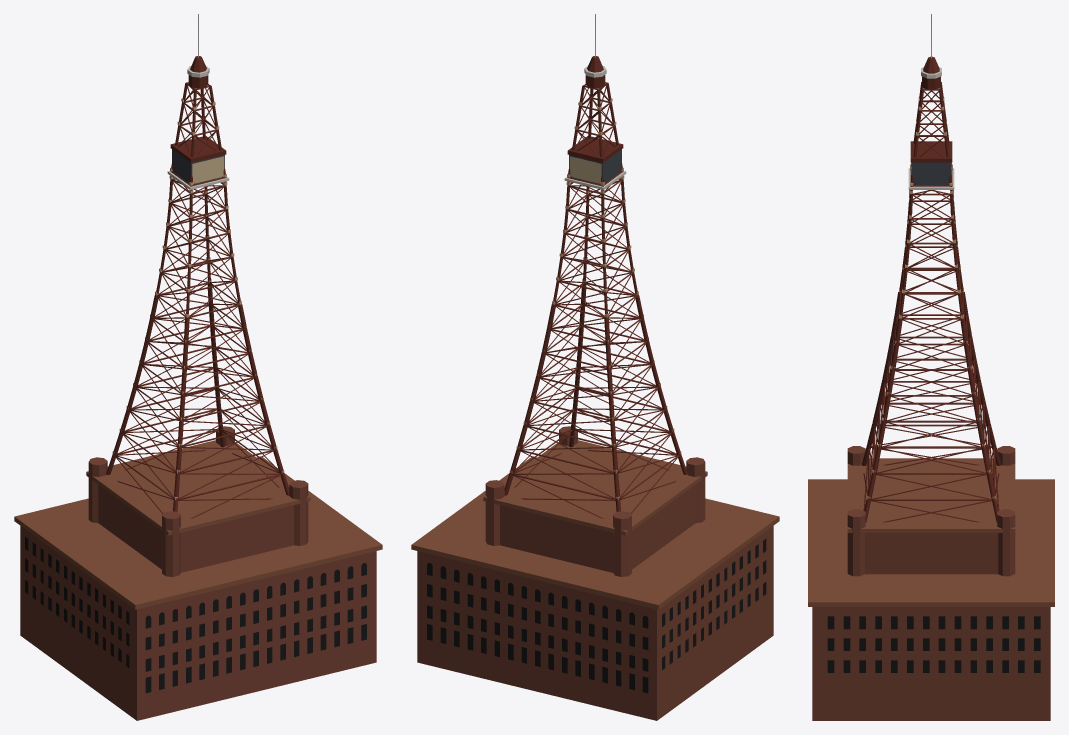
The model's file is blackpool.glb.
The picture shows the model from 3 angles, left to right: view 1: azimuth 30°, elevation 25°; view 2: azimuth 150°, elevation 25°; view 3: azimuth 270°, elevation 25°; orthographic projection.
Visible parts, largest first — view 1: buildings#far, lattice#far, windows, lights; view 2: buildings#far, lattice#far, windows, lights; view 3: buildings#far, lattice#far, windows, lights.
Boxes of the visible parts, left/top/right/bottom form: buildings#far: left=14, top=426, right=382, bottom=720; lattice#far: left=106, top=14, right=289, bottom=518; windows: left=25, top=536, right=366, bottom=693; lights: left=112, top=94, right=284, bottom=499; buildings#far: left=411, top=426, right=779, bottom=720; lattice#far: left=504, top=14, right=687, bottom=518; windows: left=427, top=539, right=766, bottom=693; lights: left=509, top=94, right=681, bottom=499; buildings#far: left=808, top=446, right=1054, bottom=720; lattice#far: left=862, top=14, right=1000, bottom=522; windows: left=827, top=616, right=1040, bottom=672; lights: left=867, top=97, right=995, bottom=499.
Size of the model in its own units: 66 by 162 by 56.
